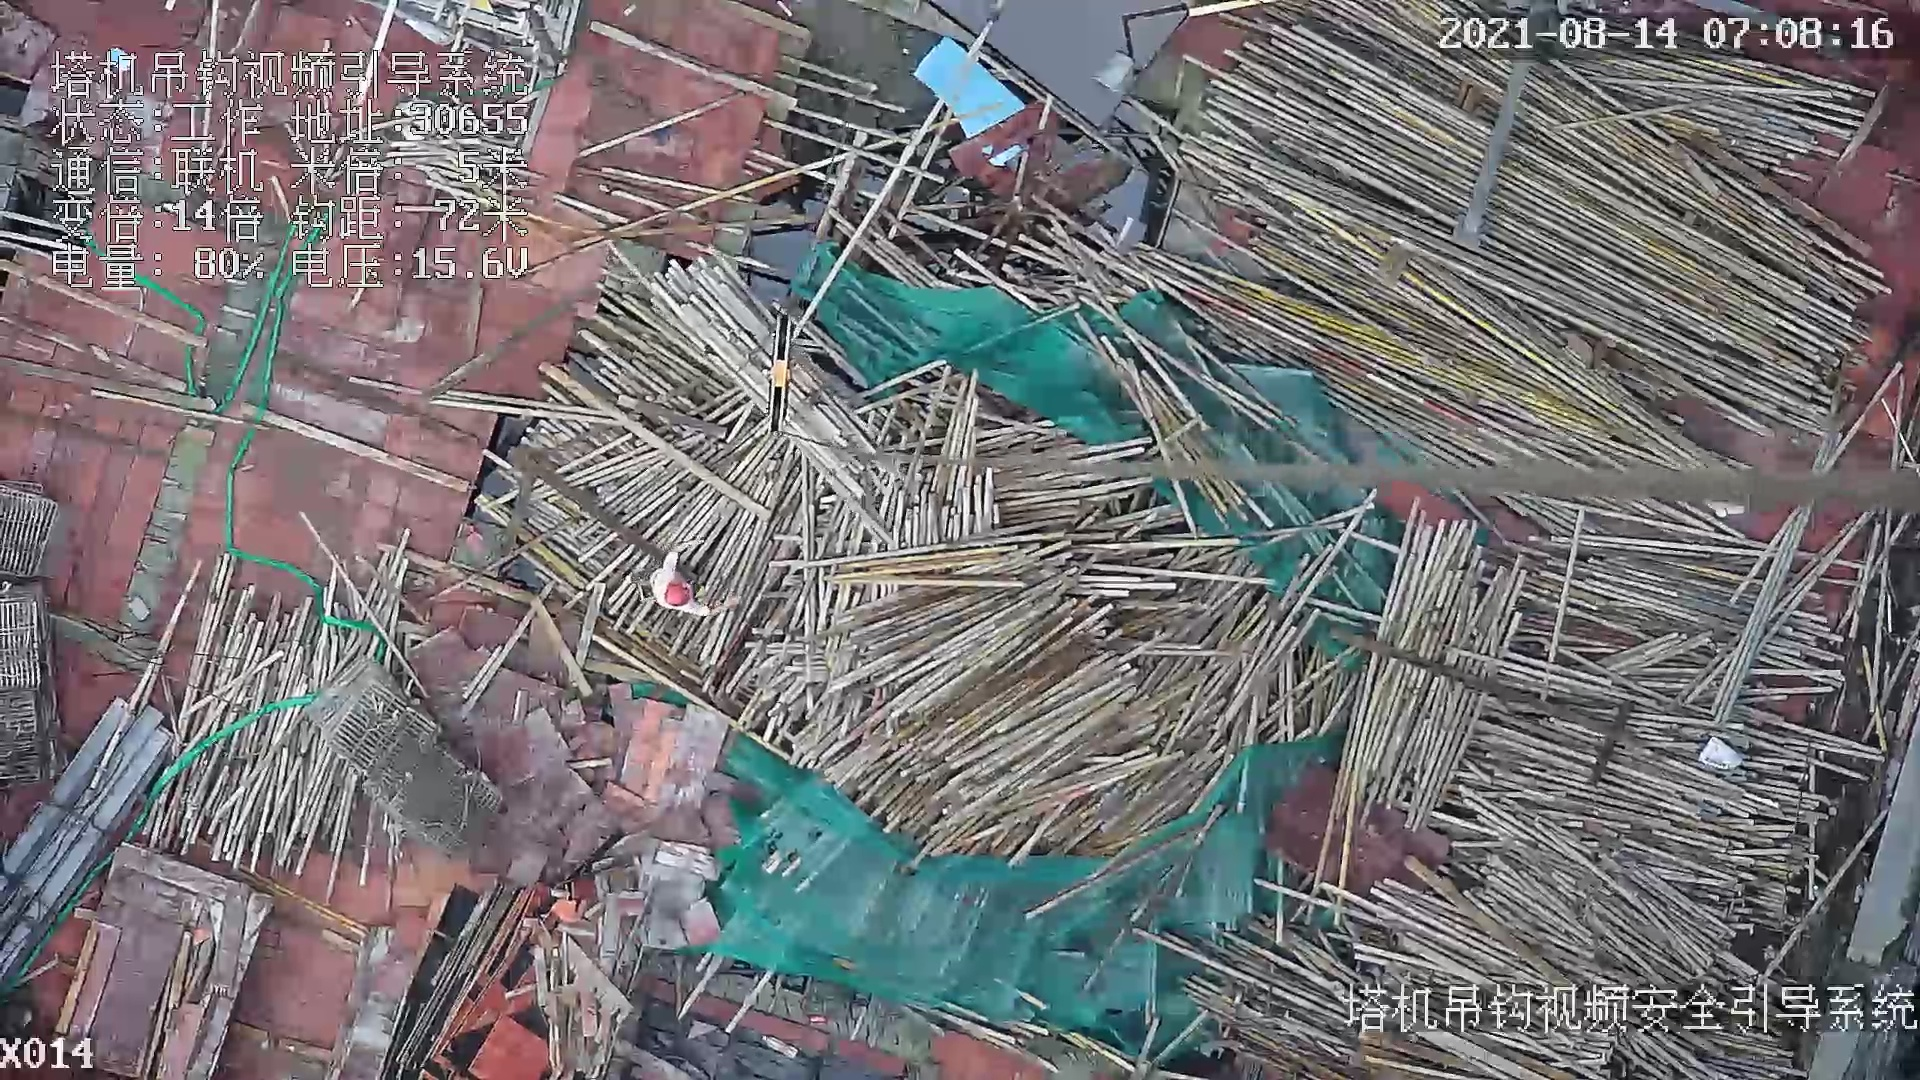helmet: (663, 581, 691, 607)
hook: (760, 308, 795, 442)
person: (653, 545, 737, 622)
